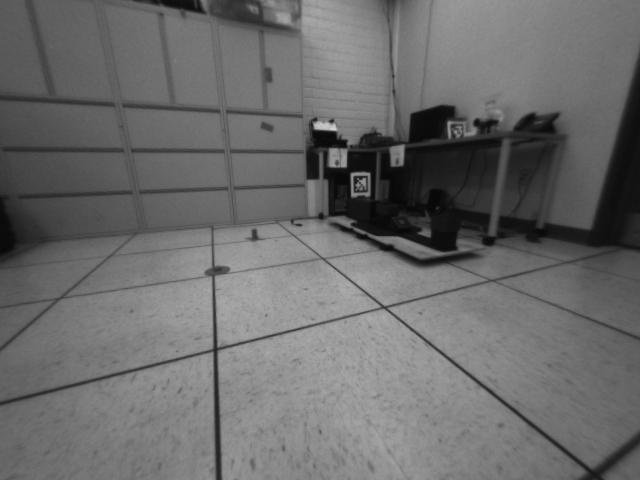X: (246, 228, 266, 242)
